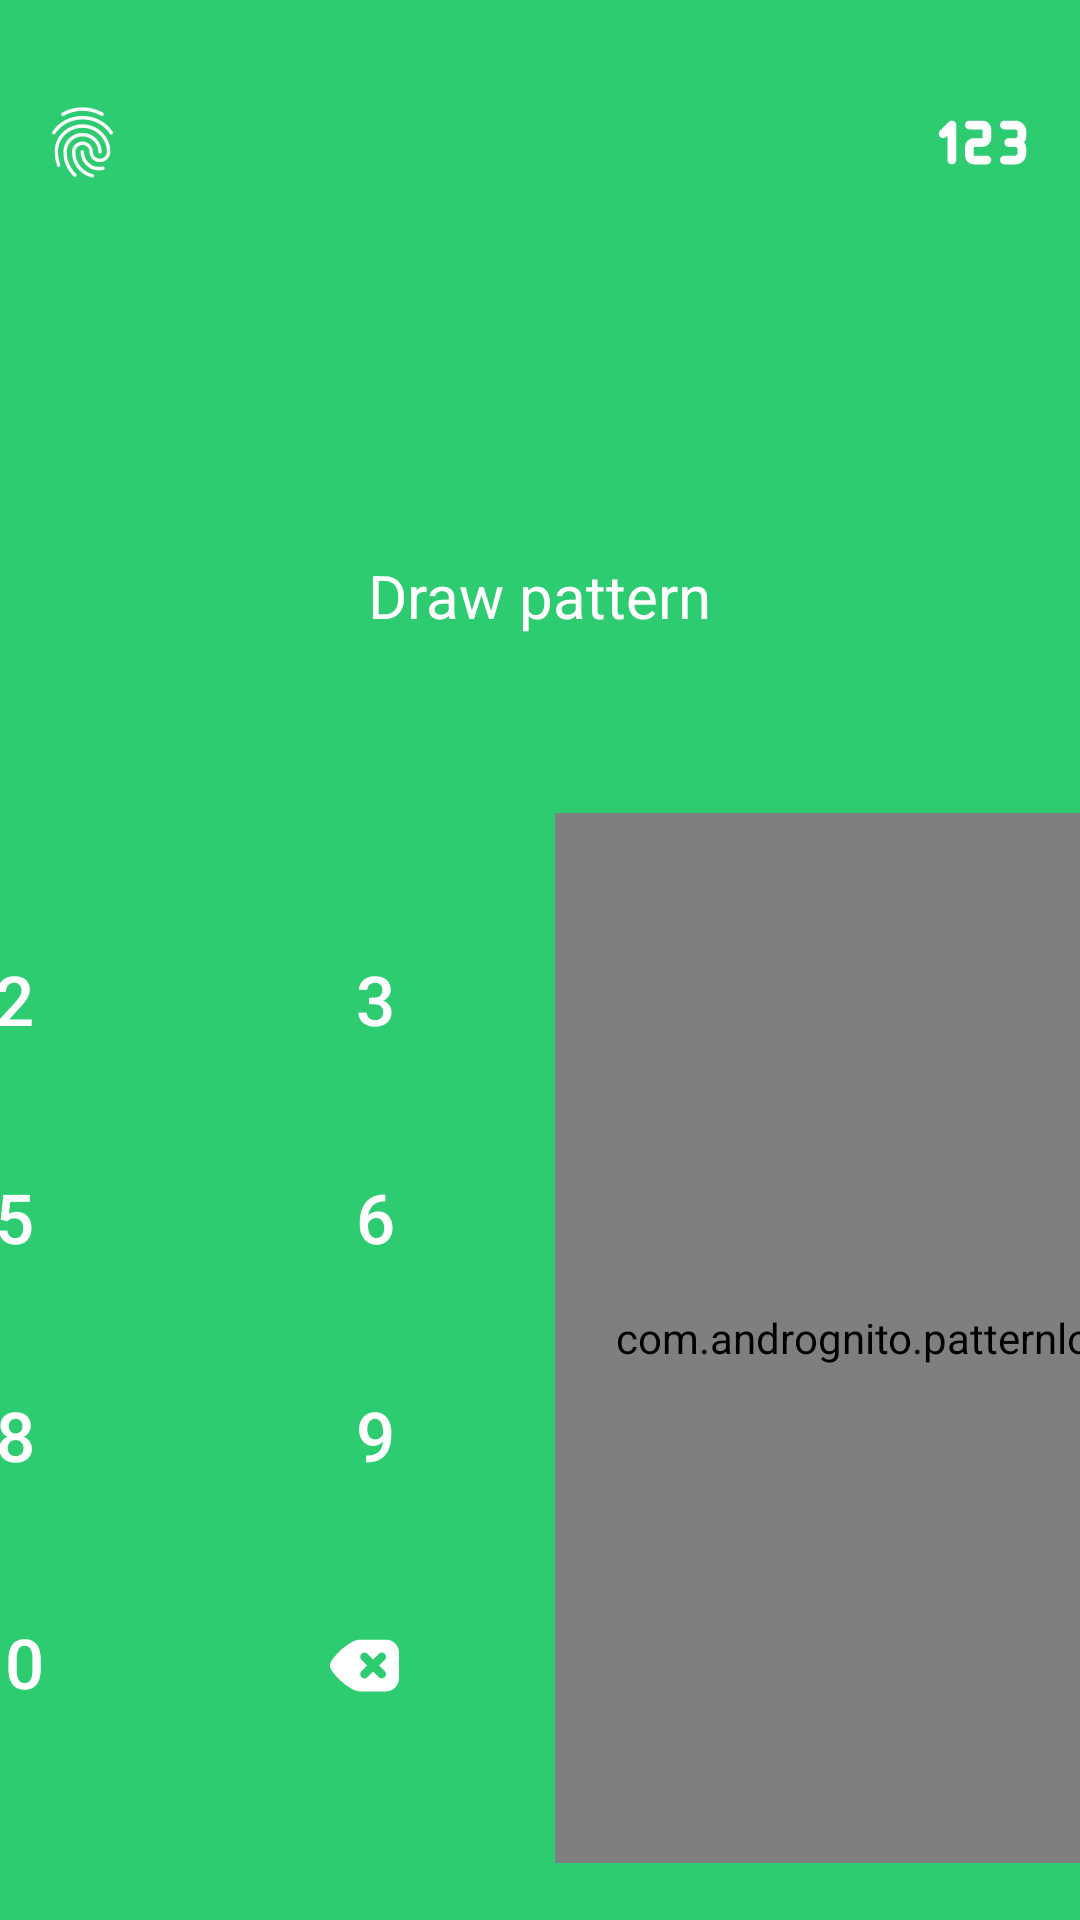

Icon click points for this 1080px×1920px phone screenshot, format [x,y]:
clear: [364,1665]
finger: [82,142]
pin password: [982,142]
